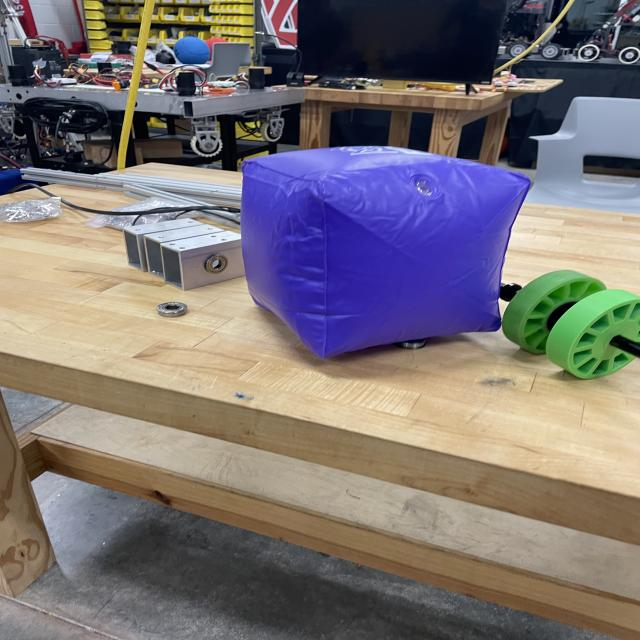frc_cube: (234, 143, 534, 354)
